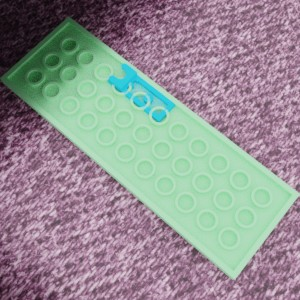lego: (0, 16, 299, 279), (108, 63, 175, 125)
